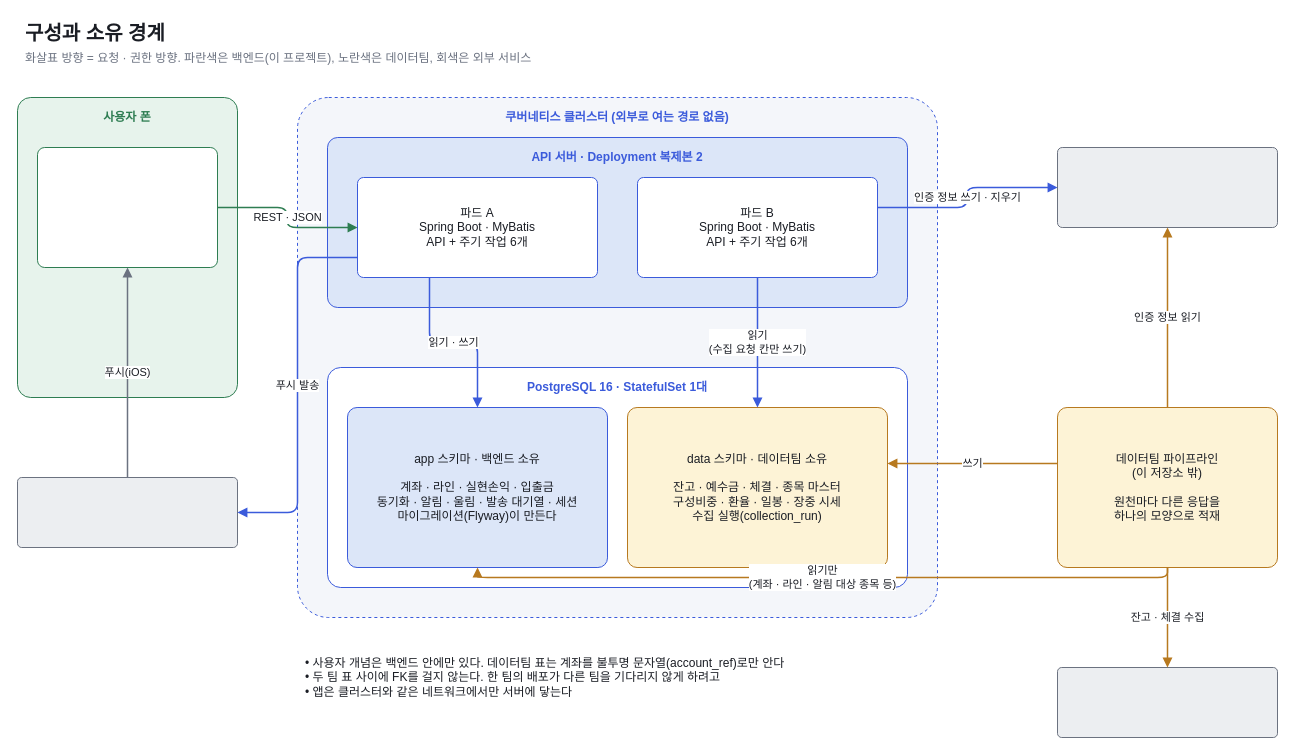
This 1295x755 diagram has some shape labels left out. Here are the shapes that lost their labels. From the top down, the centre of each, then its label:
At (127,207): "앱 React Native · Expo 화면 · 로그인 세션 보관 · 푸시 수신 요청마다 Bearer 접근 토큰".
At (1167,187): "AWS SSM Parameter Store 계좌 인증 정보".
At (127,512): "Expo 푸시 서비스".
At (1167,702): "한국투자증권 잔고 · 체결 API".
